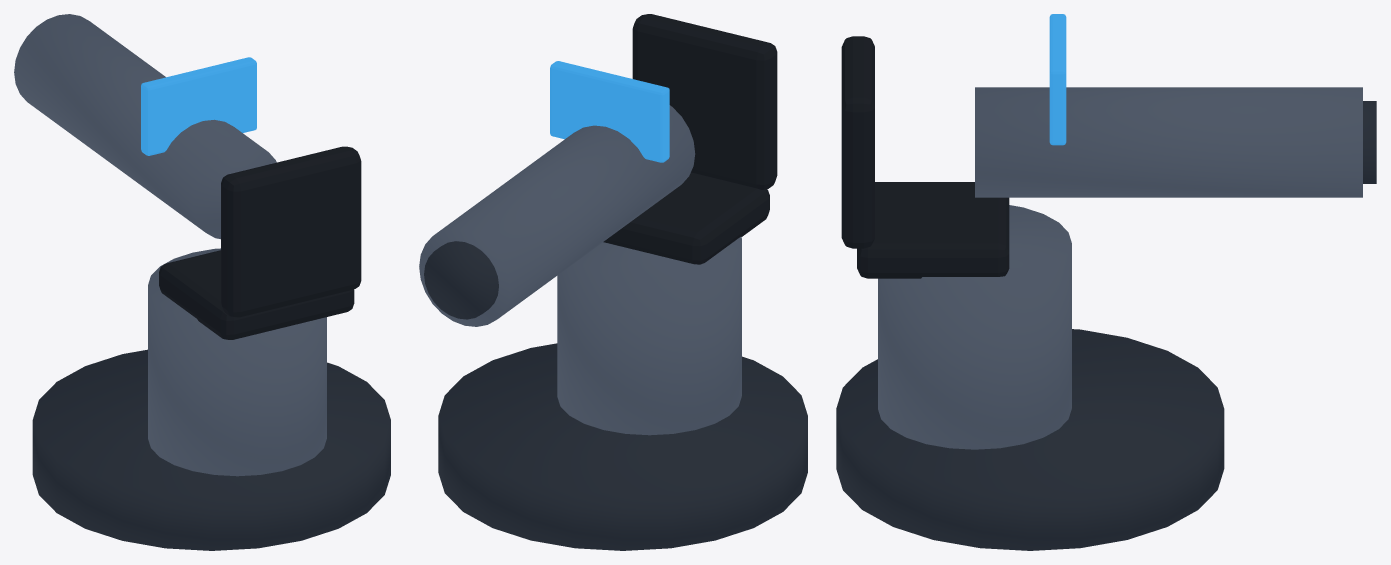
The model's file is torreta.glb.
The picture shows the model from 3 angles, left to right: view 1: azimuth 30°, elevation 25°; view 2: azimuth 150°, elevation 25°; view 3: azimuth 270°, elevation 25°; orthographic projection. The views are drawn at different scales.
Parts seen in each view (by area): view 1: Cylinder.062, Cylinder.063, Cylinder.064, Cube.111, Cube.112, Cube.110; view 2: Cylinder.062, Cylinder.063, Cylinder.064, Cube.111, Cube.110, Cube.112, Cylinder.065; view 3: Cylinder.062, Cylinder.064, Cylinder.063, Cube.110, Cube.111, Cube.112, Cylinder.065.
Part boxes in pixels (x1,y1,x2,y2): Cylinder.062: (32,349,390,550); Cylinder.063: (148,248,326,476); Cylinder.064: (14,14,276,239); Cube.111: (221,146,361,317); Cube.112: (141,57,256,155); Cube.110: (159,250,354,339); Cylinder.062: (438,343,807,550); Cylinder.063: (557,236,741,435); Cylinder.064: (419,105,695,326); Cube.111: (632,14,777,189); Cube.110: (603,172,769,264); Cube.112: (550,61,669,162); Cylinder.065: (424,241,498,319); Cylinder.062: (836,329,1224,550); Cylinder.064: (975,87,1362,197); Cylinder.063: (878,205,1071,449); Cube.110: (857,182,1009,278); Cube.111: (841,36,874,248); Cube.112: (1049,14,1066,145); Cylinder.065: (1363,101,1376,183).
Bounding box in the file's own units: 1.4 × 1.7 × 1.95.
